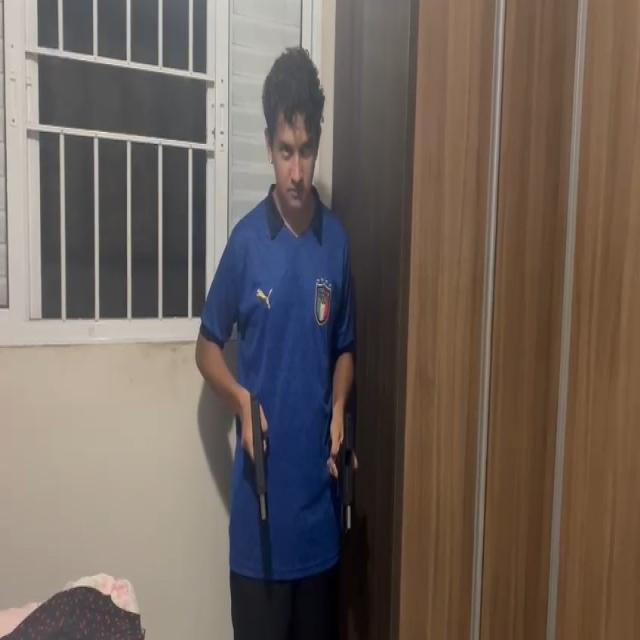guns: (247, 385, 269, 521), (341, 412, 355, 528)
